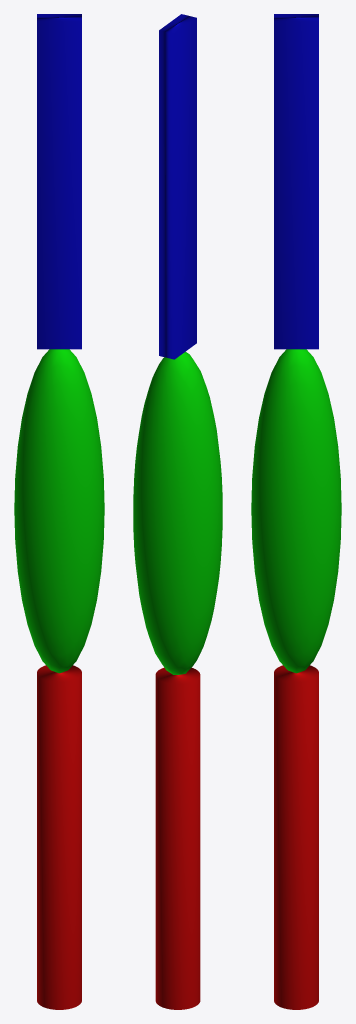
The model's file is demo-lint.dae.
The picture shows the model from 3 angles, left to right: view 1: azimuth 90°, elevation 25°; view 2: azimuth 150°, elevation 25°; view 3: azimuth 270°, elevation 25°; orthographic projection.
Visible parts, largest first — view 1: Segment2, Segment1, Segment3; view 2: Segment2, Segment1, Segment3; view 3: Segment2, Segment1, Segment3.
Boxes of the visible parts, left/top/right/bottom form: Segment2: left=14, top=349, right=104, bottom=673; Segment1: left=37, top=665, right=81, bottom=1009; Segment3: left=37, top=14, right=81, bottom=349; Segment2: left=133, top=351, right=222, bottom=674; Segment1: left=155, top=667, right=200, bottom=1009; Segment3: left=159, top=14, right=196, bottom=359; Segment2: left=251, top=349, right=341, bottom=673; Segment1: left=274, top=665, right=318, bottom=1009; Segment3: left=274, top=14, right=318, bottom=349.
Bounding box in the file's own units: 0.5 × 0.5 × 6.
